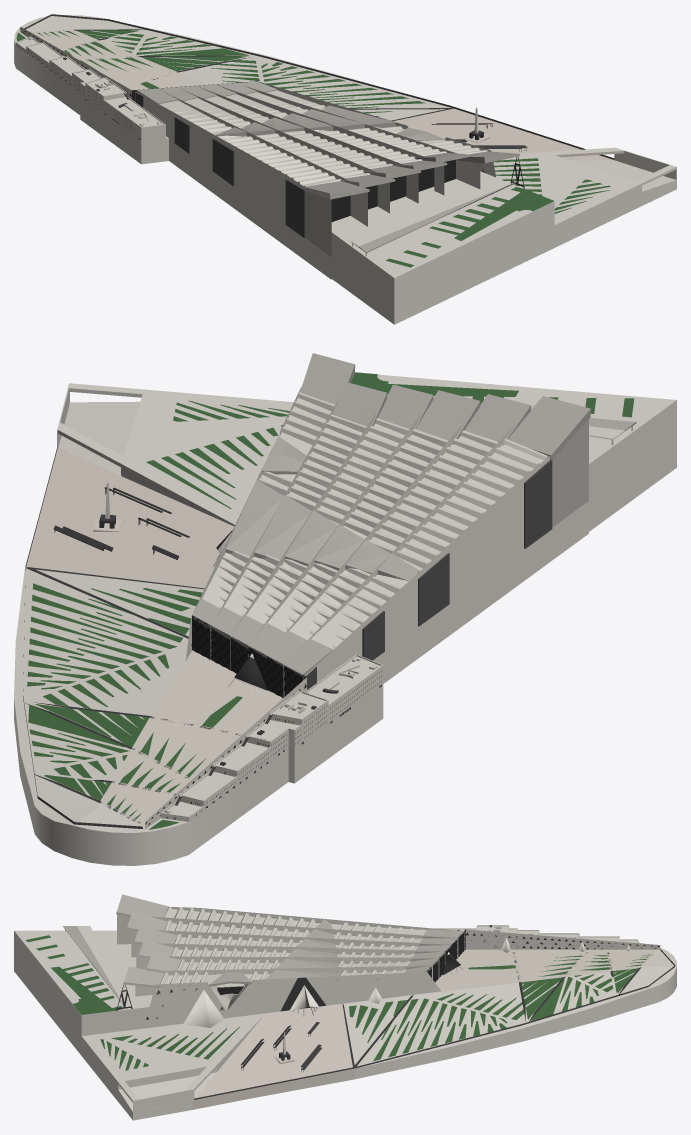
Rendered from 20250623_museum02.glb.
The picture shows the model from 3 angles, top to bottom: view 1: azimuth 30°, elevation 25°; view 2: azimuth 150°, elevation 25°; view 3: azimuth 270°, elevation 25°; orthographic projection. The views are drawn at different scales.
Visible parts, largest first — view 1: Plane.007, Plane.004, Plane.008, Plane.009, Plane.005, Plane.013, Plane.003, Plane.046, Plane.006, Plane.015, Plane.014, Plane.022 (+4 smaller); view 2: Plane.007, Plane.008, Plane.009, Plane.004, Plane.013, Plane.003, Plane.006, Plane.005, Plane.037, Plane.022, Plane.016, Plane.046 (+6 smaller); view 3: Plane.007, Plane.004, Plane.008, Plane.005, Plane.009, Plane.013, Plane.044, Plane.003, Plane.020, Plane.046, Plane.015, Plane.022 (+7 smaller).
Boxes of the visible parts, x1,y1,x2,y2 form: Plane.007: (14,15,676,324); Plane.004: (135,82,524,279); Plane.008: (161,98,487,186); Plane.009: (137,81,520,199); Plane.005: (160,85,480,226); Plane.013: (16,30,425,116); Plane.003: (15,36,165,141); Plane.046: (386,187,553,267); Plane.006: (159,90,325,130); Plane.015: (546,147,676,185); Plane.014: (24,14,614,159); Plane.022: (493,158,610,213); Plane.007: (14,374,676,865); Plane.008: (217,392,548,647); Plane.009: (192,353,590,676); Plane.004: (185,388,588,689); Plane.013: (27,583,202,829); Plane.003: (160,654,383,821); Plane.006: (202,552,394,649); Plane.005: (210,397,515,697); Plane.037: (192,615,306,697); Plane.022: (146,400,289,508); Plane.016: (26,567,239,823); Plane.046: (351,372,634,417); Plane.007: (14,926,676,1120); Plane.004: (116,906,464,1028); Plane.008: (159,907,423,986); Plane.005: (117,914,458,1000); Plane.009: (116,894,463,987); Plane.013: (349,968,637,1061); Plane.044: (144,929,660,1028); Plane.003: (433,925,641,949); Plane.020: (183,937,630,1027); Plane.046: (25,935,122,1014); Plane.015: (118,1065,216,1112); Plane.022: (100,1026,239,1070).
Bounding box in the file's own units: 443 × 98.25 × 774.
